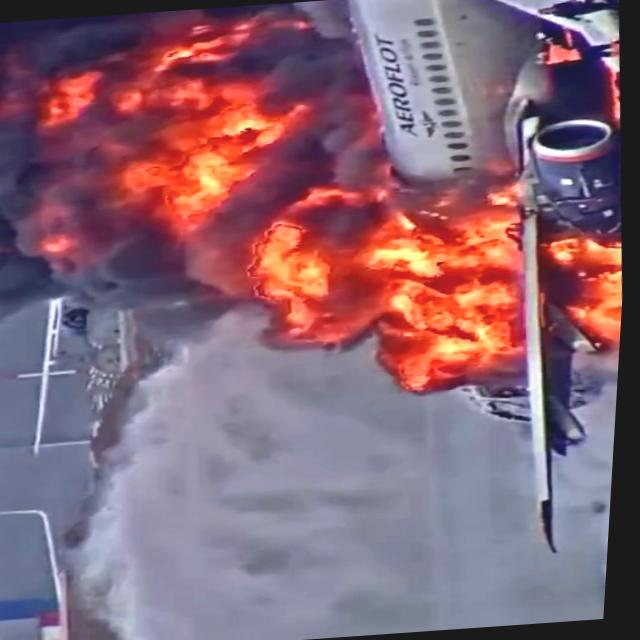fire: (359, 210, 522, 384), (105, 130, 298, 222), (542, 220, 630, 337)
